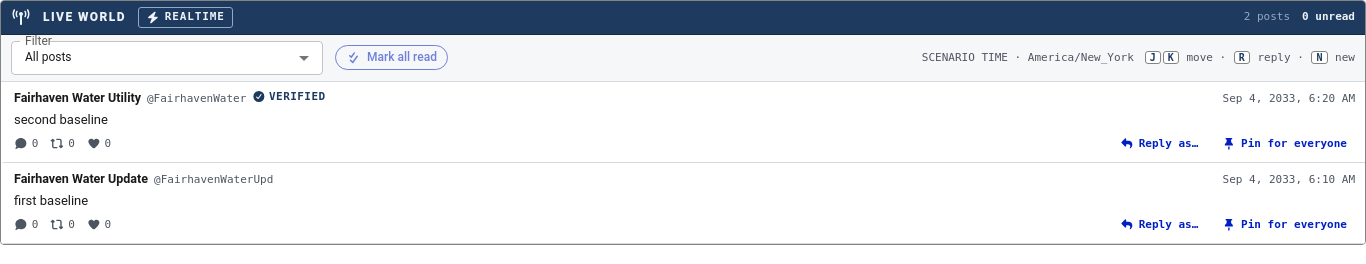
Test case: AC — Pin for everyone / Unpin › shows "Pinning…" while in flight and ignores a second click
Click the button with test id "live-world-pin" below "Sep 4, 2033, 6:10 AM" at (1285, 225), box [1214,213,1355,236]
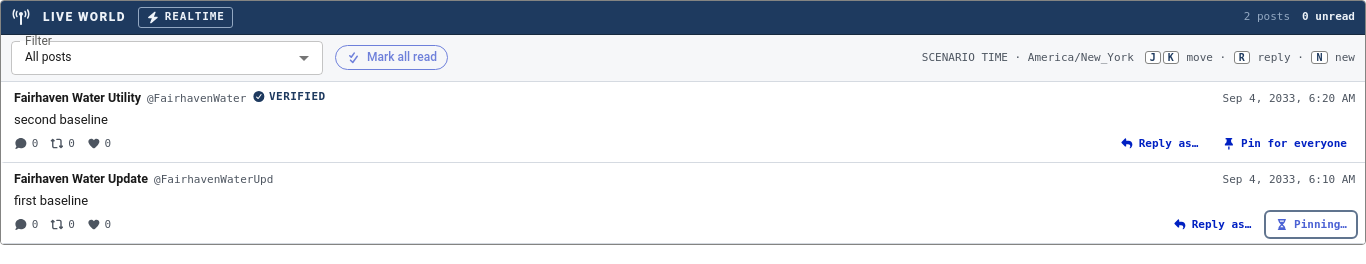
Check: the button with test id "live-world-pin" reads "Pinning…"
Click the button with test id "live-world-pin" showing "Pinning…" at (1311, 225), box [1267,213,1355,236]
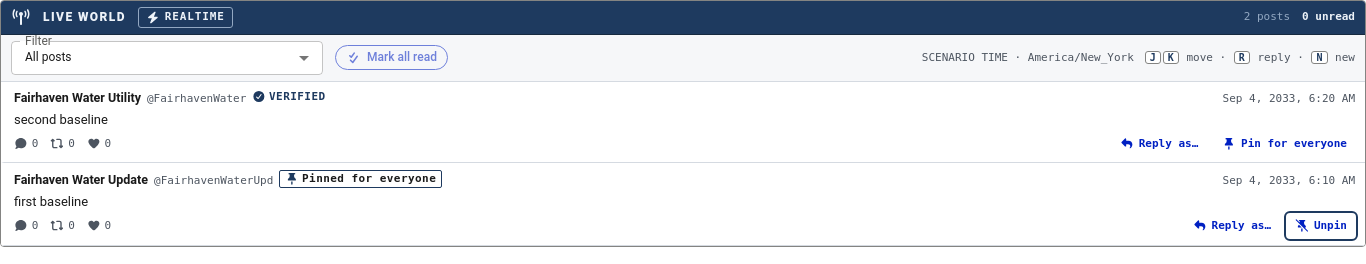
Check: the element with test id "live-world-pinned" is shown, box [279,170,442,188]
